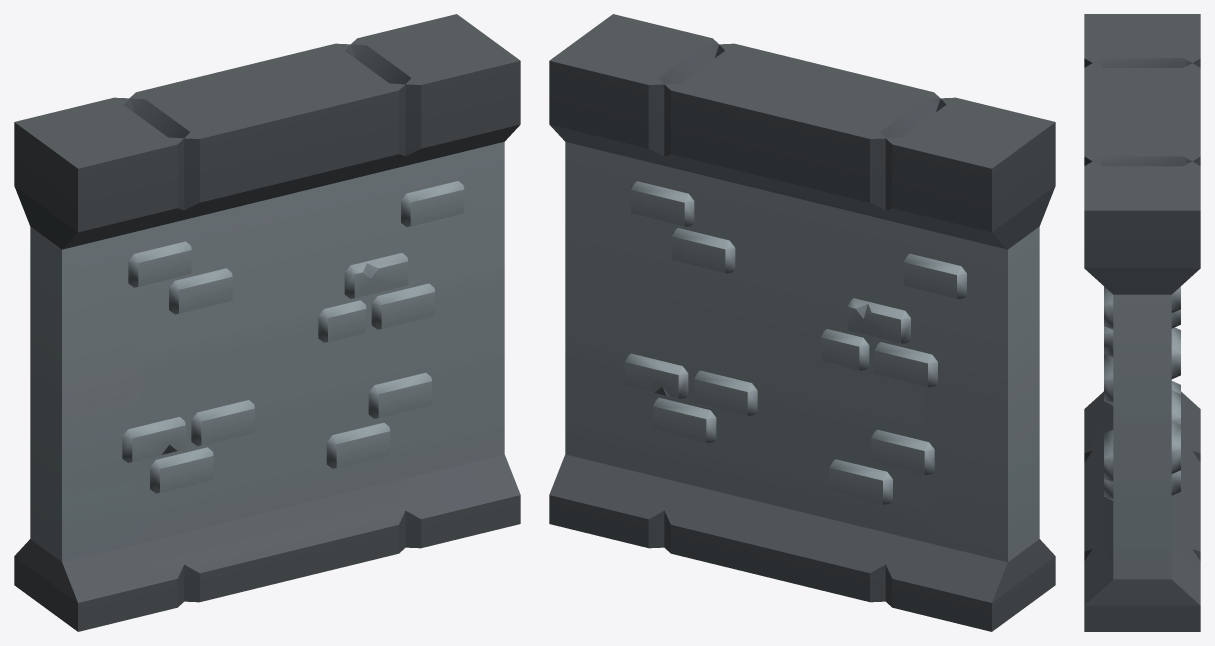
File: kcas_wall.glb
3 renders of one model, left to right at view 1: azimuth 30°, elevation 25°; view 2: azimuth 150°, elevation 25°; view 3: azimuth 270°, elevation 25°, orthographic. The views are drawn at different scales.
Visible parts, largest first — view 1: wall; view 2: wall; view 3: wall.
Boxes of the visible parts, bbox=[...] form: wall: bbox=[14, 14, 520, 631]; wall: bbox=[549, 14, 1055, 631]; wall: bbox=[1084, 14, 1200, 631].
Size of the model in its own units: 4 by 4 by 1.
Materials: 1 (1 with a texture image).
